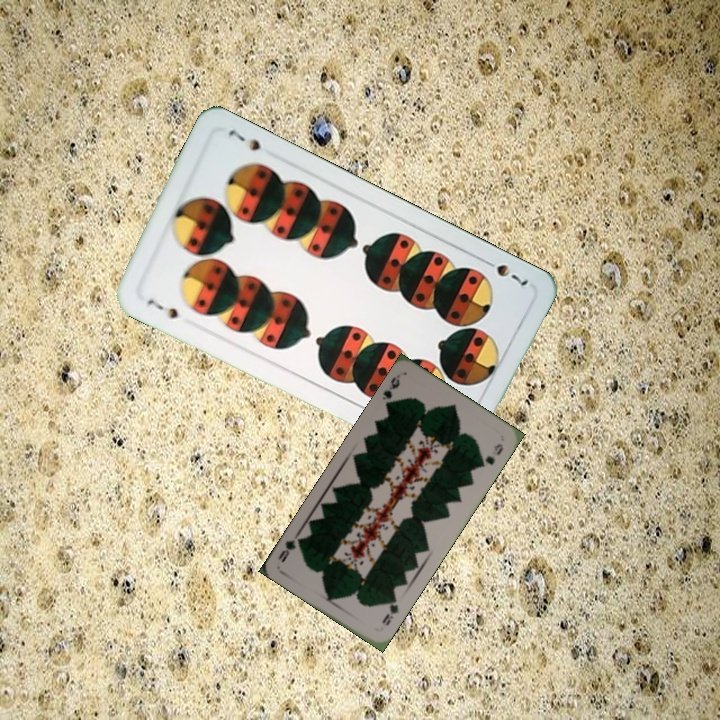G9: (378, 373, 403, 410), (378, 593, 402, 628)
S7: (478, 255, 530, 290), (143, 294, 181, 322)
